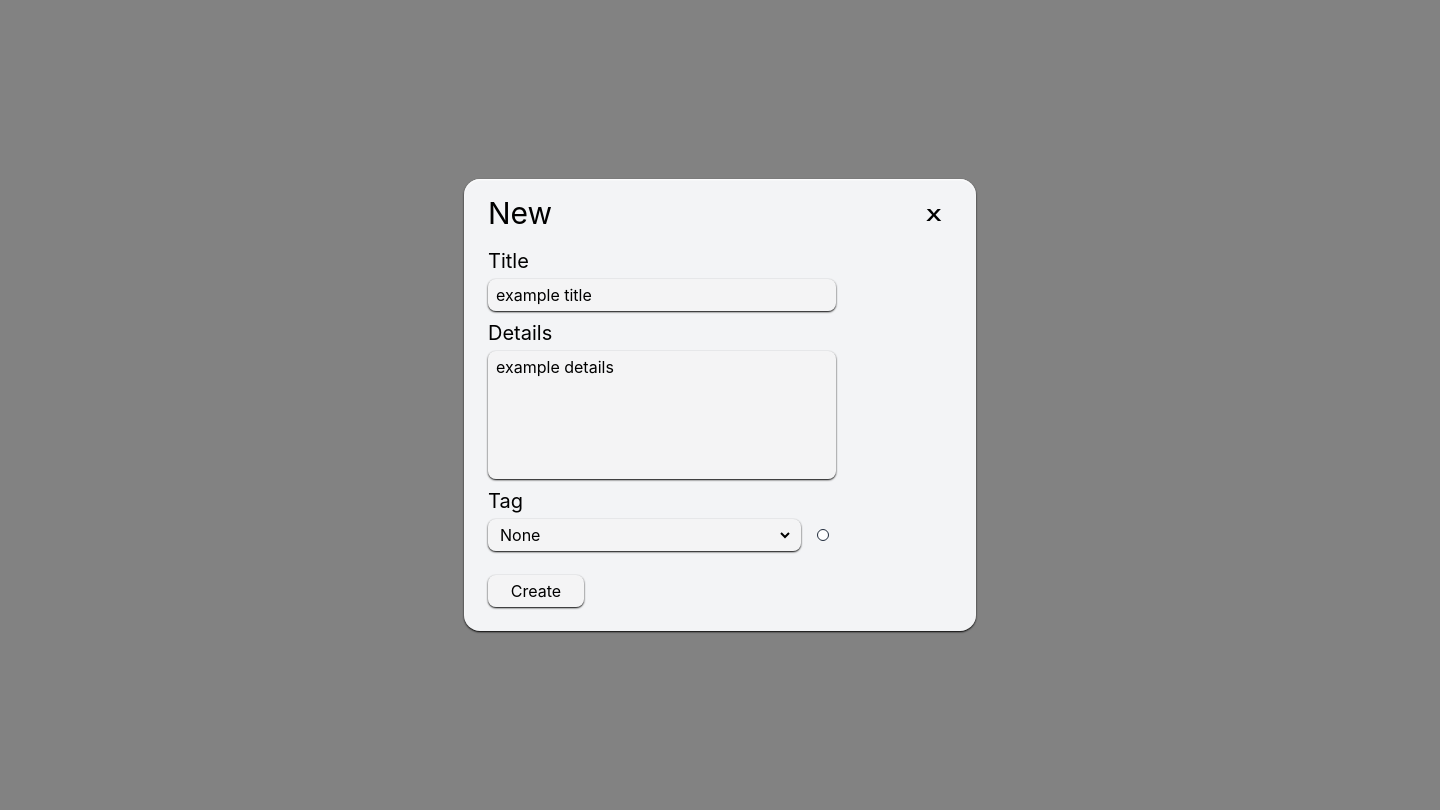
Test case: TodoModal › displays an error
This screenshot has width=1440, height=810.
Clear the field labelled "Title": (662, 295) [488, 279, 836, 311]
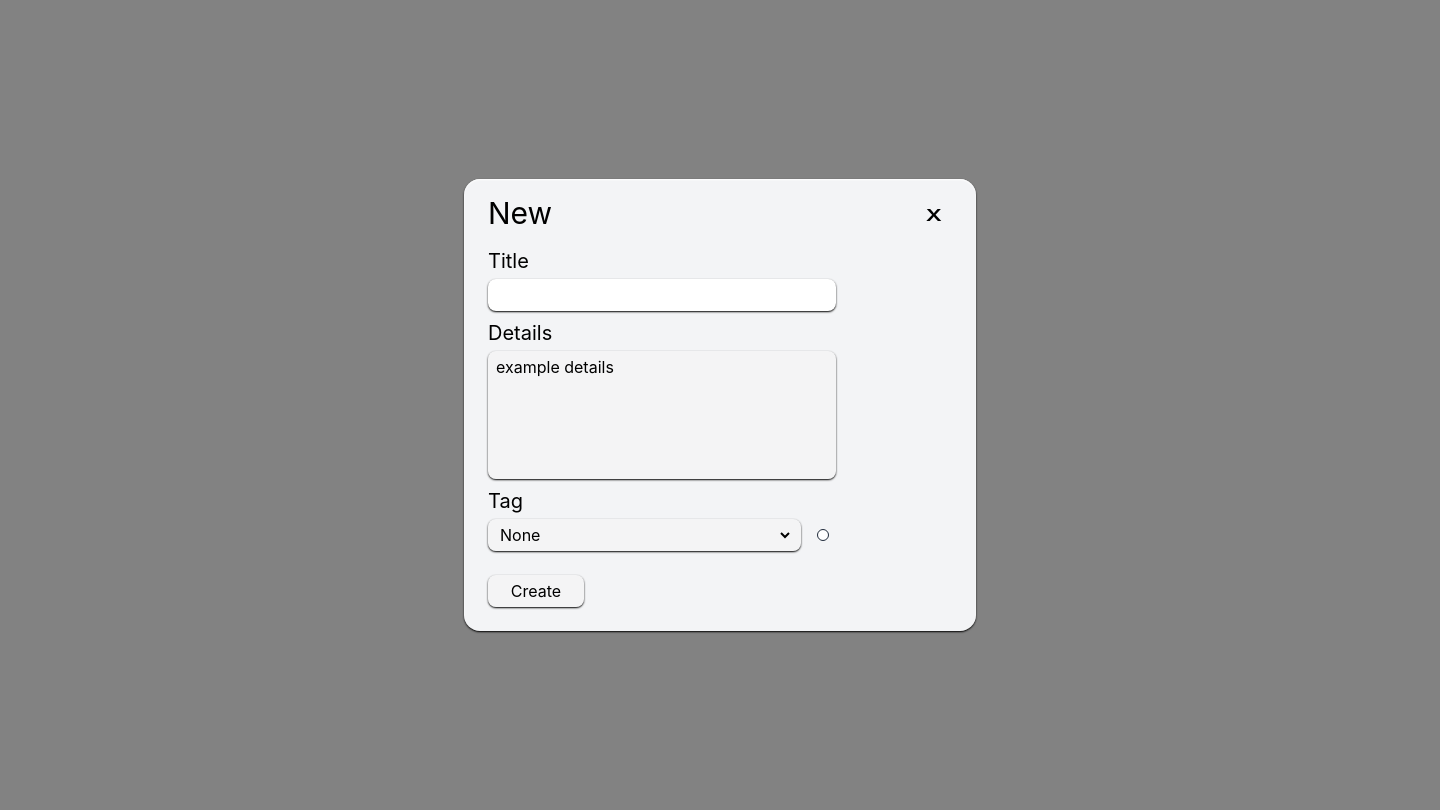
Click the button "Create": (536, 591) [488, 575, 584, 607]
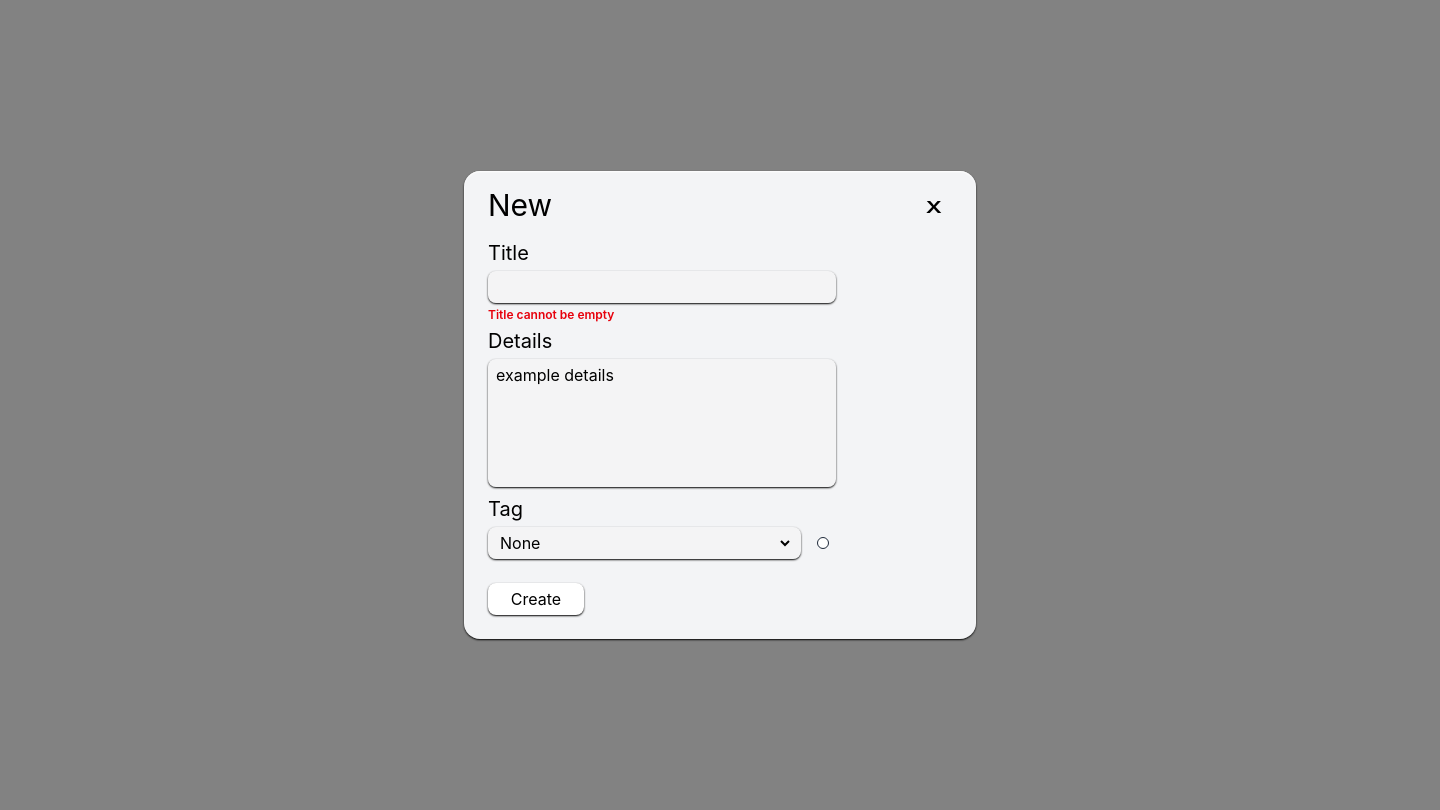
Check: the text "Title cannot be empty" is shown, box [488, 307, 614, 322]
